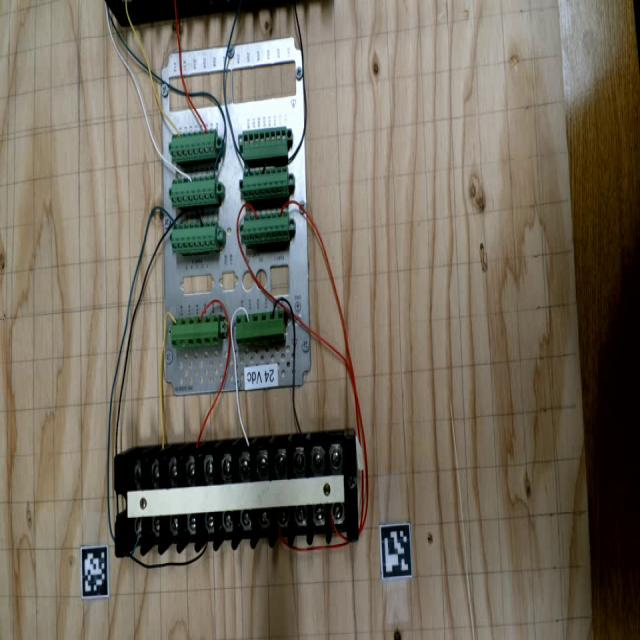Flathead_Block: (107, 437, 363, 561)
Terminal_1: (233, 310, 287, 347), (169, 315, 221, 349)
Terminal_2: (241, 167, 290, 201), (242, 212, 290, 245), (169, 176, 218, 208), (170, 222, 218, 253), (170, 132, 216, 161)
